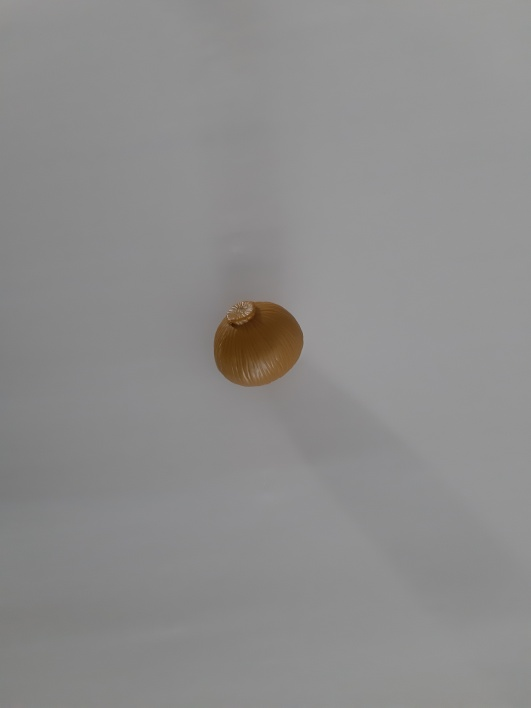onion: (196, 288, 315, 401)
